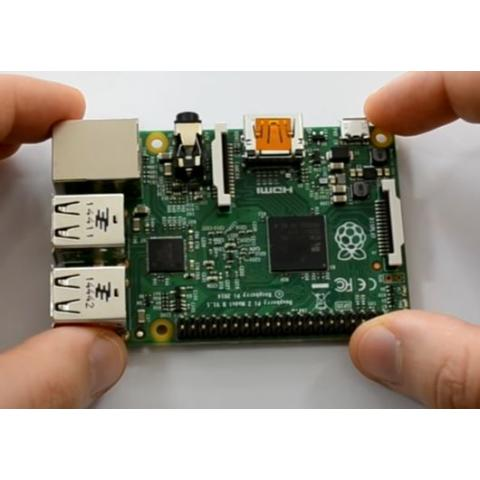Raspberry-Pi-2-Model-B: (39, 104, 439, 360)
